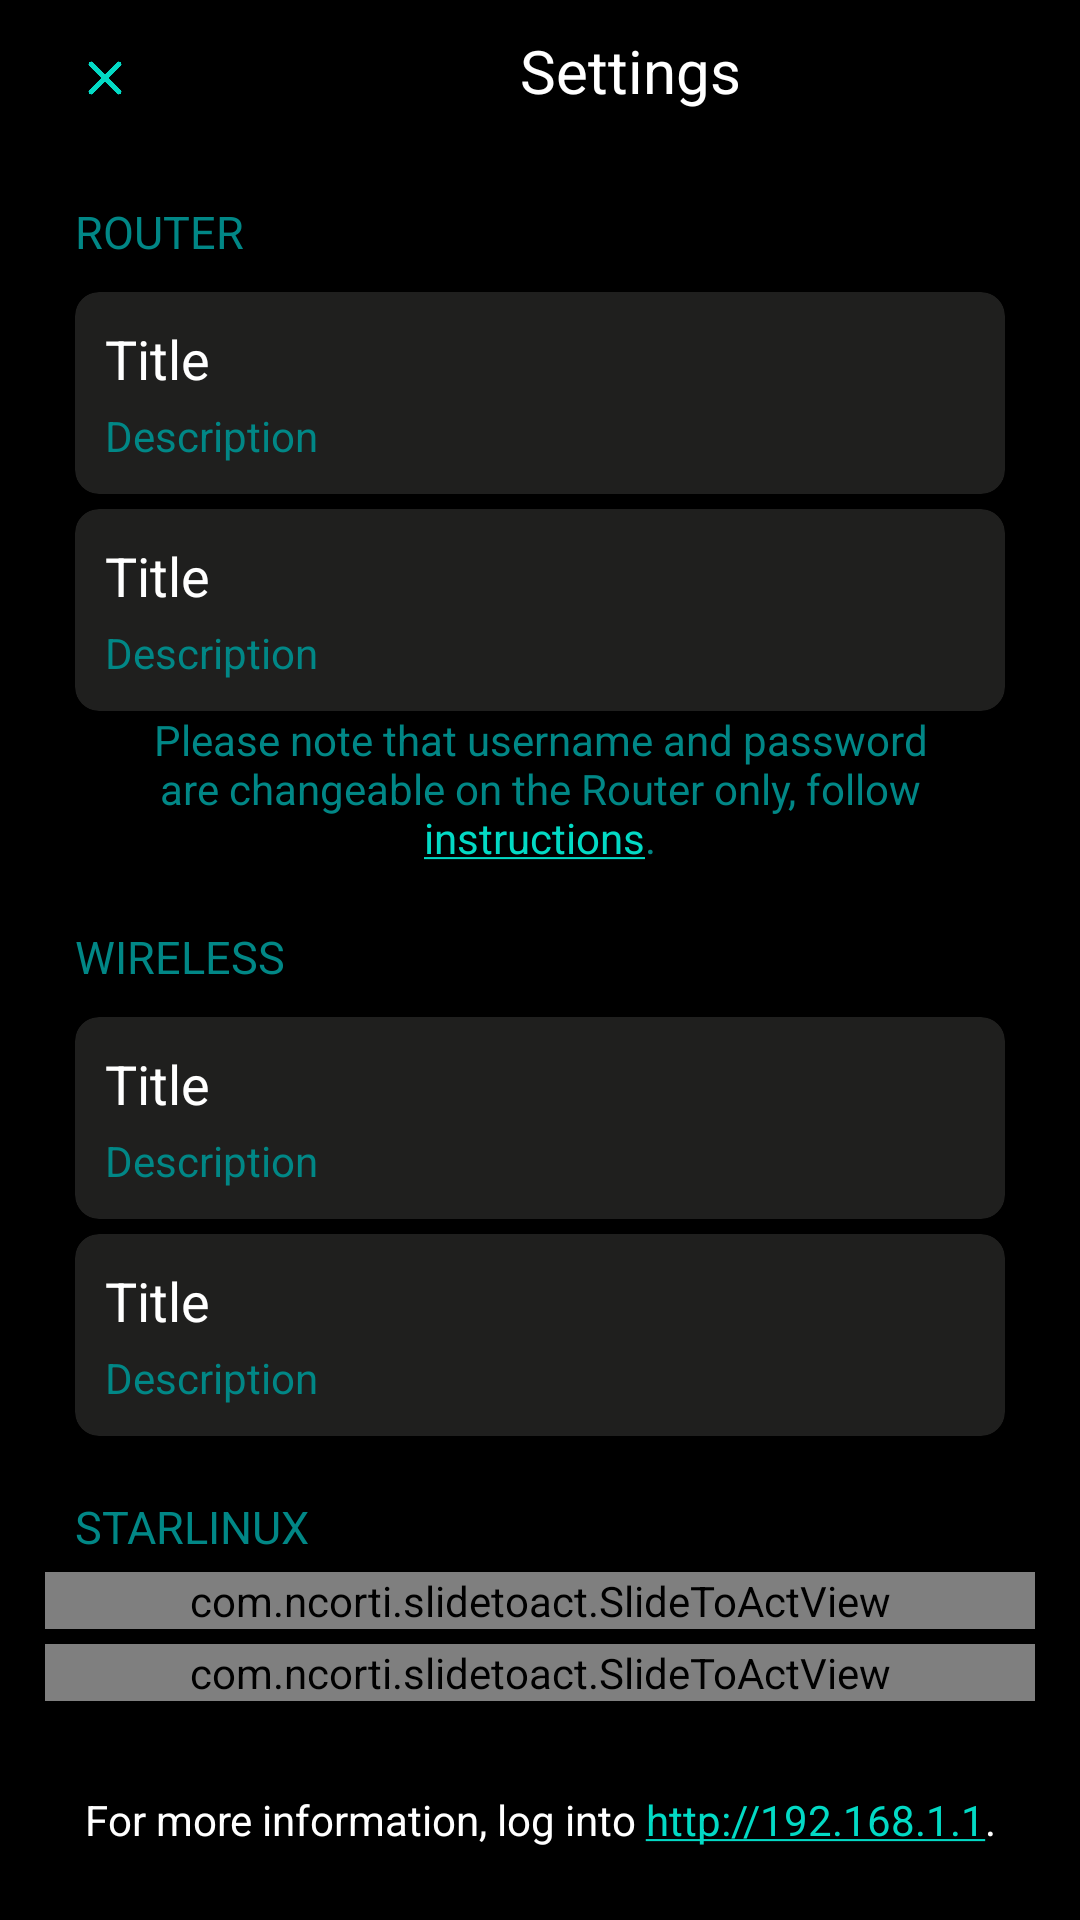

Icon click points for this 1080 x 1920 phone screenshot, format point (x, y):
cross: point (105, 78)
